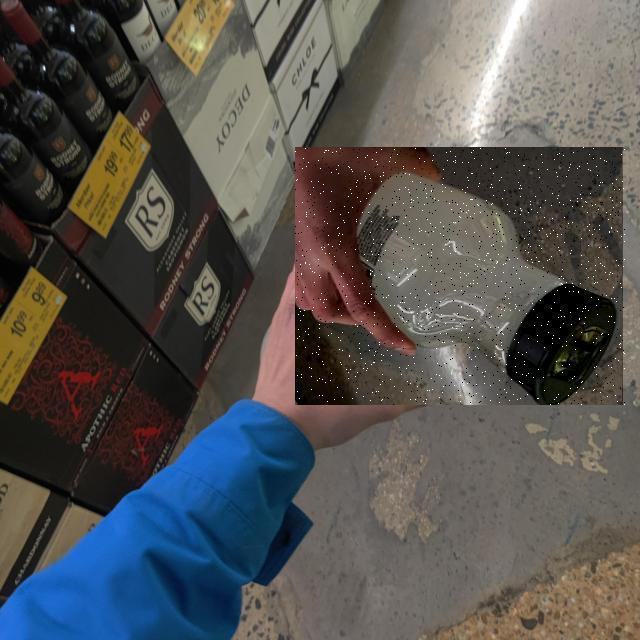Juice: (296, 147, 626, 405)
